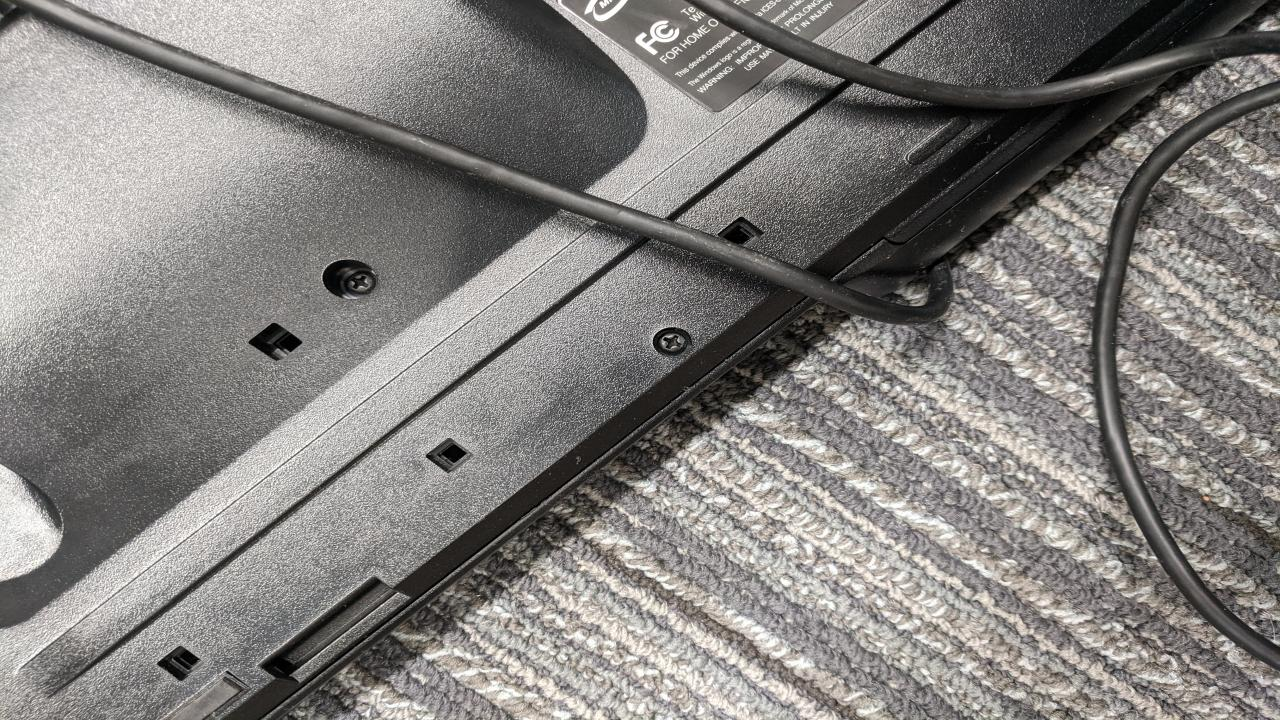CRS: (341, 266, 374, 296), (657, 328, 686, 354)
